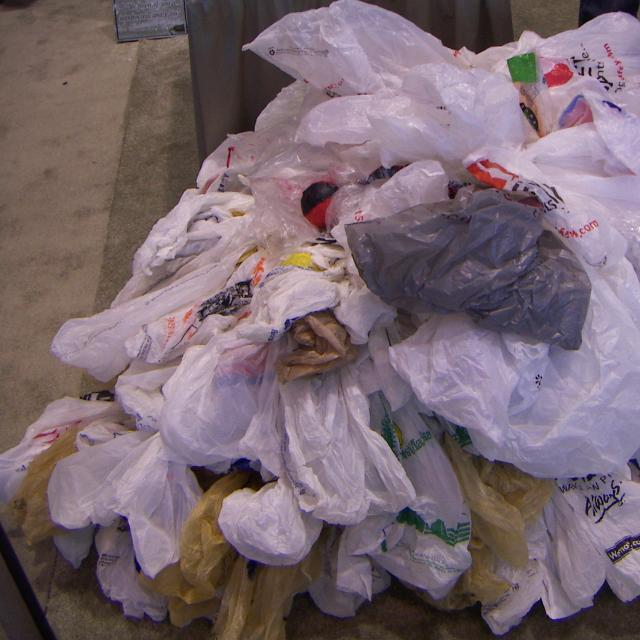Single-layer Plastic: (160, 331, 416, 566), (390, 266, 640, 478), (245, 0, 536, 166), (345, 188, 591, 350), (51, 189, 258, 381), (464, 125, 640, 328), (198, 81, 380, 252), (140, 470, 321, 640), (481, 471, 640, 635), (492, 12, 640, 175), (421, 432, 555, 610), (48, 431, 201, 576)
